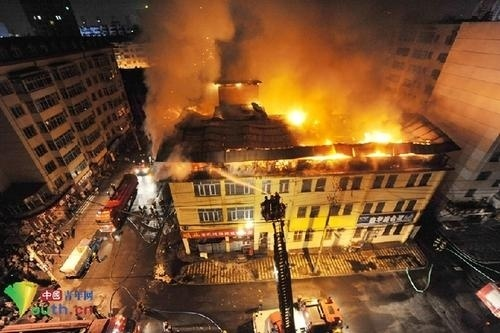fire: (261, 103, 405, 159)
